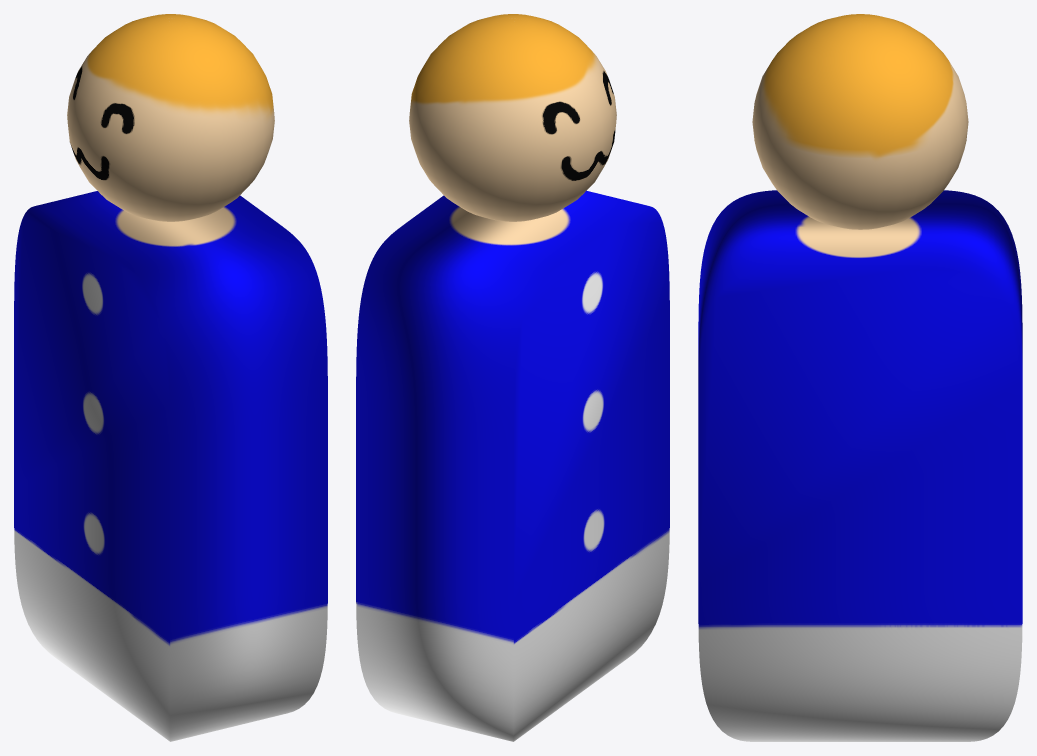
File: skin3.glb
The picture shows the model from 3 angles, left to right: view 1: azimuth 30°, elevation 25°; view 2: azimuth 150°, elevation 25°; view 3: azimuth 270°, elevation 25°; orthographic projection. The views are drawn at different scales.
Visible parts, largest first — view 1: Oberkörper, Kopf; view 2: Oberkörper, Kopf; view 3: Oberkörper, Kopf.
Boxes of the visible parts, left/top/right/bottom form: Oberkörper: left=14, top=191, right=327, bottom=741; Kopf: left=67, top=14, right=274, bottom=221; Oberkörper: left=356, top=190, right=669, bottom=741; Kopf: left=409, top=14, right=616, bottom=221; Oberkörper: left=698, top=190, right=1022, bottom=741; Kopf: left=752, top=14, right=968, bottom=229.
Size of the model in its own units: 0.2 by 0.71 by 0.3.
Materials: 2 (2 with a texture image).
